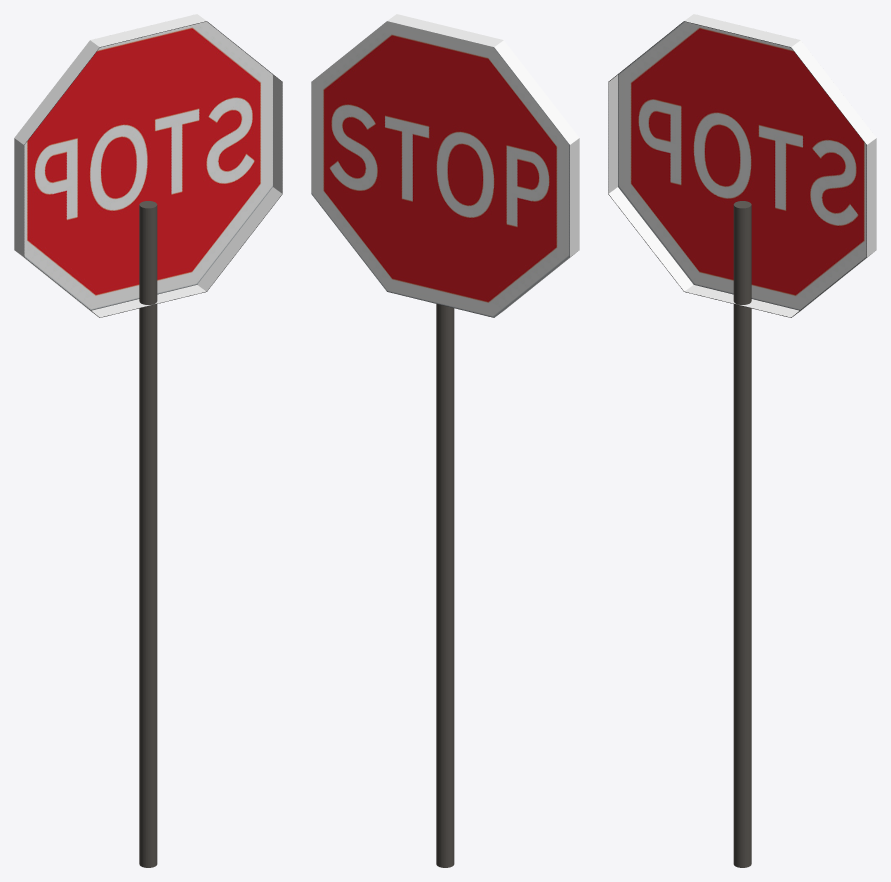
The model's file is SinalSTOP.fbx.
3 renders of one model, left to right at view 1: azimuth 30°, elevation 25°; view 2: azimuth 150°, elevation 25°; view 3: azimuth 330°, elevation 25°, orthographic.
Parts seen in each view (by area): view 1: Cylinder.002, Cylinder; view 2: Cylinder.002, Cylinder; view 3: Cylinder.002, Cylinder.
Part boxes in pixels (box(x1,y1,x2,y2)): Cylinder.002: box(14, 14, 282, 317); Cylinder: box(139, 201, 157, 867); Cylinder.002: box(311, 14, 579, 317); Cylinder: box(436, 304, 454, 867); Cylinder.002: box(608, 14, 876, 317); Cylinder: box(733, 201, 751, 867).
Bounding box in the file's own units: 185 × 569 × 12.
Materials: 2 (1 with a texture image).
